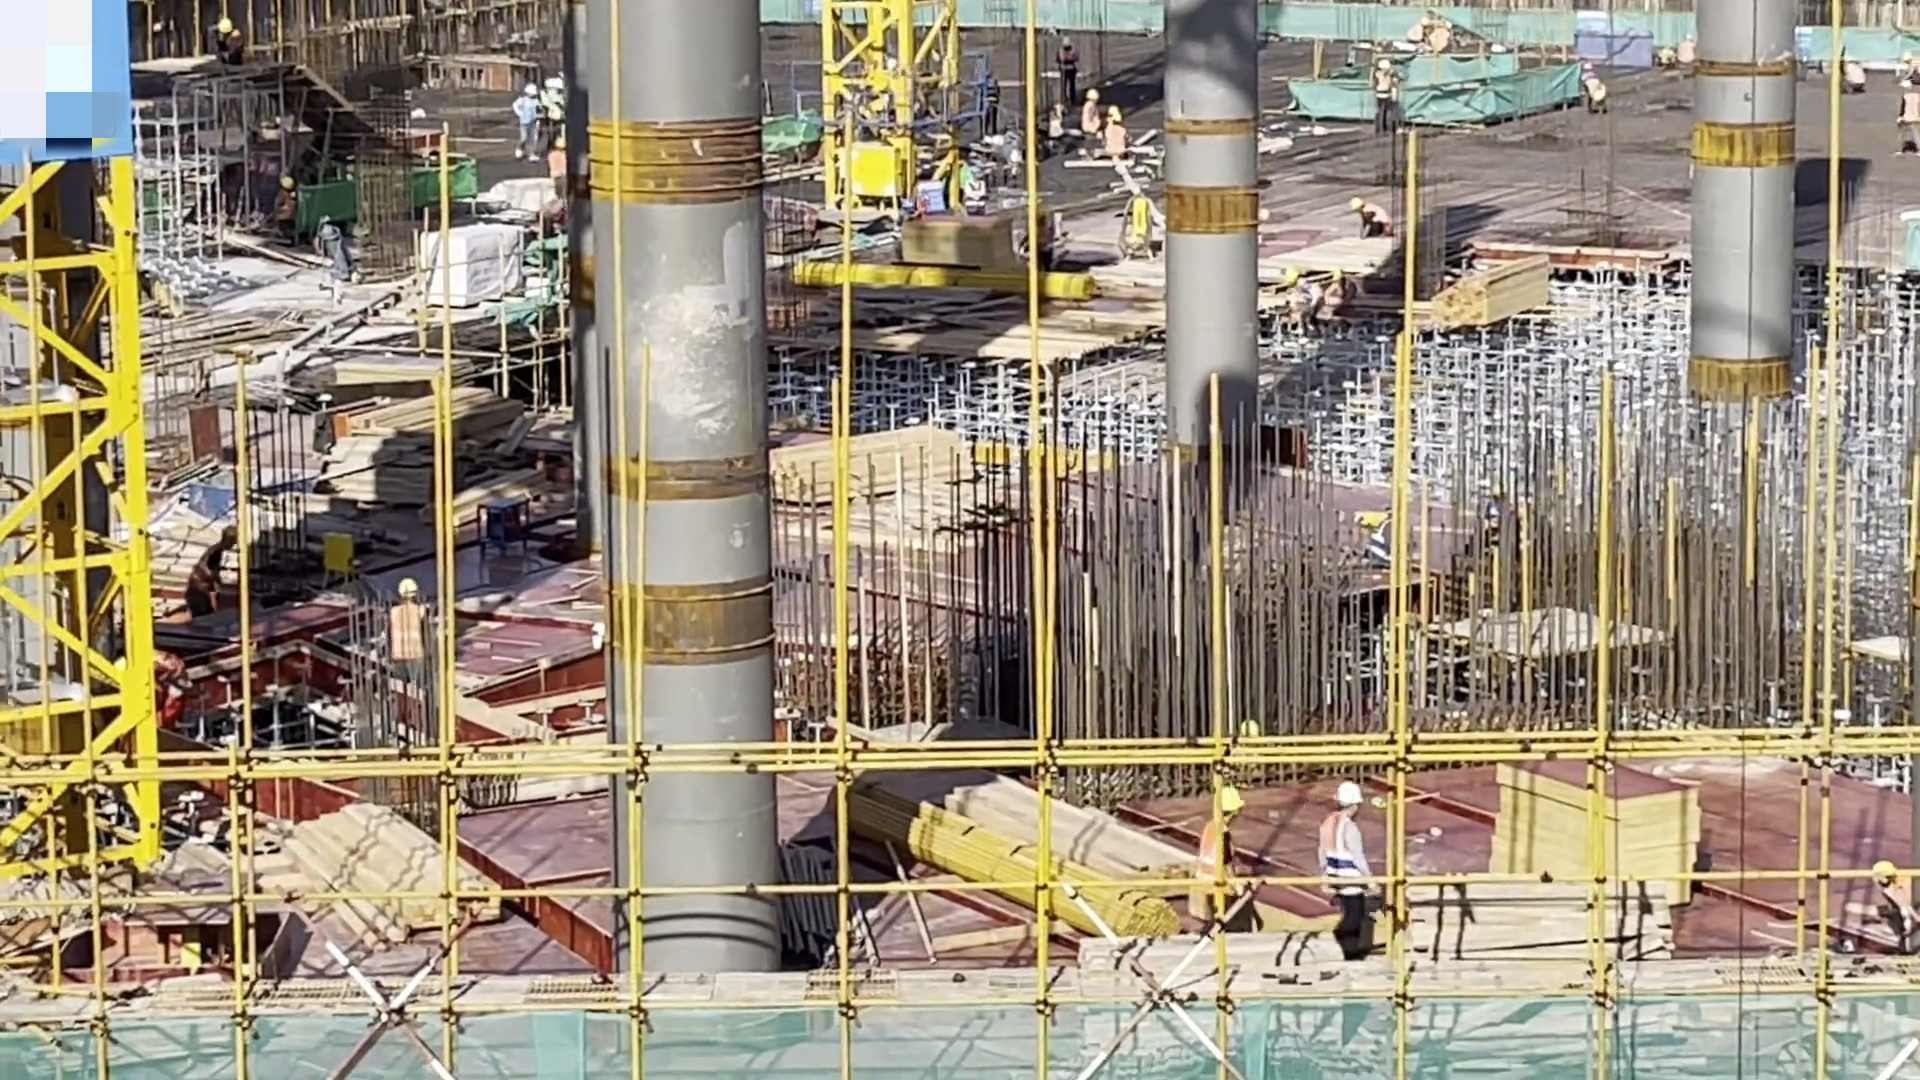board: (1493, 757, 1697, 895), (335, 405, 522, 507)
helmet: (1335, 784, 1365, 803)
person: (1312, 780, 1386, 953), (1183, 784, 1254, 942)
vest: (1199, 819, 1241, 925), (1317, 817, 1371, 900)
wood: (916, 765, 1181, 926), (286, 800, 511, 939), (1425, 881, 1696, 962), (758, 430, 982, 501), (1420, 260, 1556, 335)
